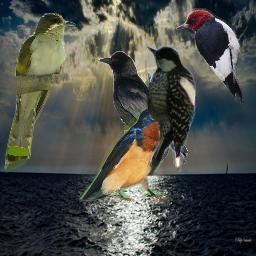Crow: (97, 51, 188, 164)
Cuckoo: (4, 13, 76, 173)
Swallow: (79, 106, 177, 204)
Woodpecker: (172, 8, 248, 104), (145, 45, 196, 176)
